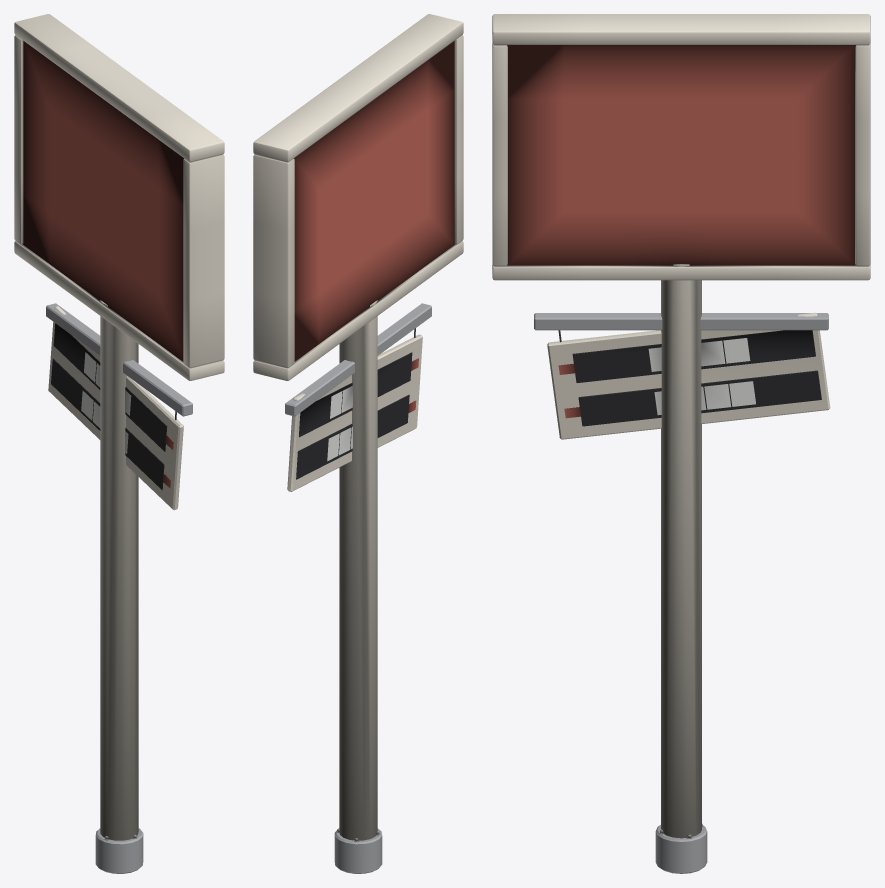
File: signpole_s.glb
3 views of the same model, side by side, from view 1: azimuth 30°, elevation 25°; view 2: azimuth 150°, elevation 25°; view 3: azimuth 270°, elevation 25° (orthographic). The views are drawn at different scales.
Visible parts, largest first — view 1: PART; view 2: PART; view 3: PART.
Boxes of the visible parts, x1=… form: PART: x1=14, y1=14, x2=224, y2=873; PART: x1=253, y1=14, x2=463, y2=873; PART: x1=492, y1=14, x2=870, y2=873.
Bounding box in the file's own units: 0.3 × 5.4 × 2.2.
